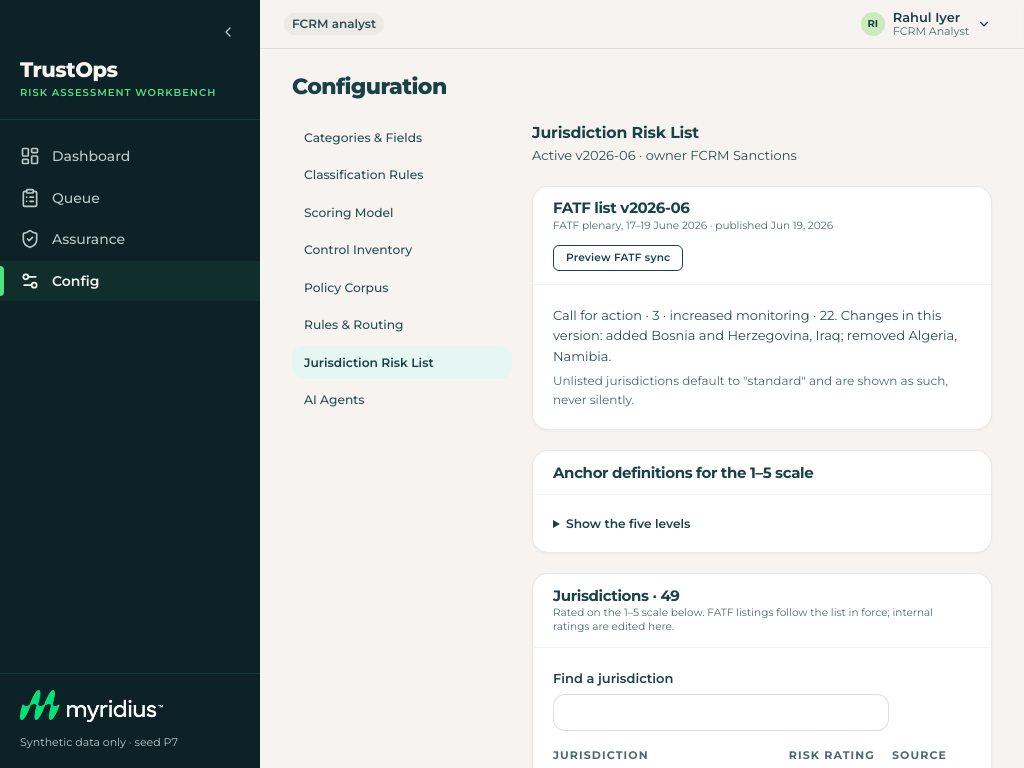
the jurisdiction risk list › explains the five levels of the scale
Click the heading "Show the five levels": (628, 523) left=566, top=516, right=690, bottom=531
(page scrolled)
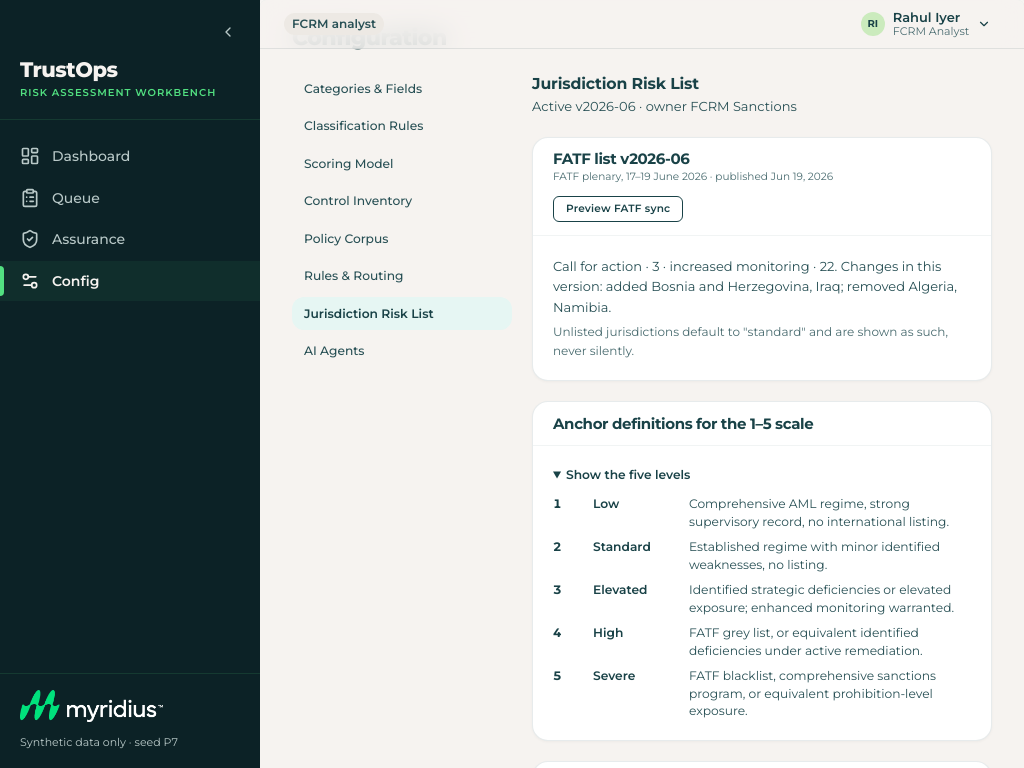
Check: the text "Severe" is shown, box left=593, top=668, right=635, bottom=683
Check: the text "FATF blacklist, comprehensive sanctions program" is shown, box left=689, top=668, right=936, bottom=718
